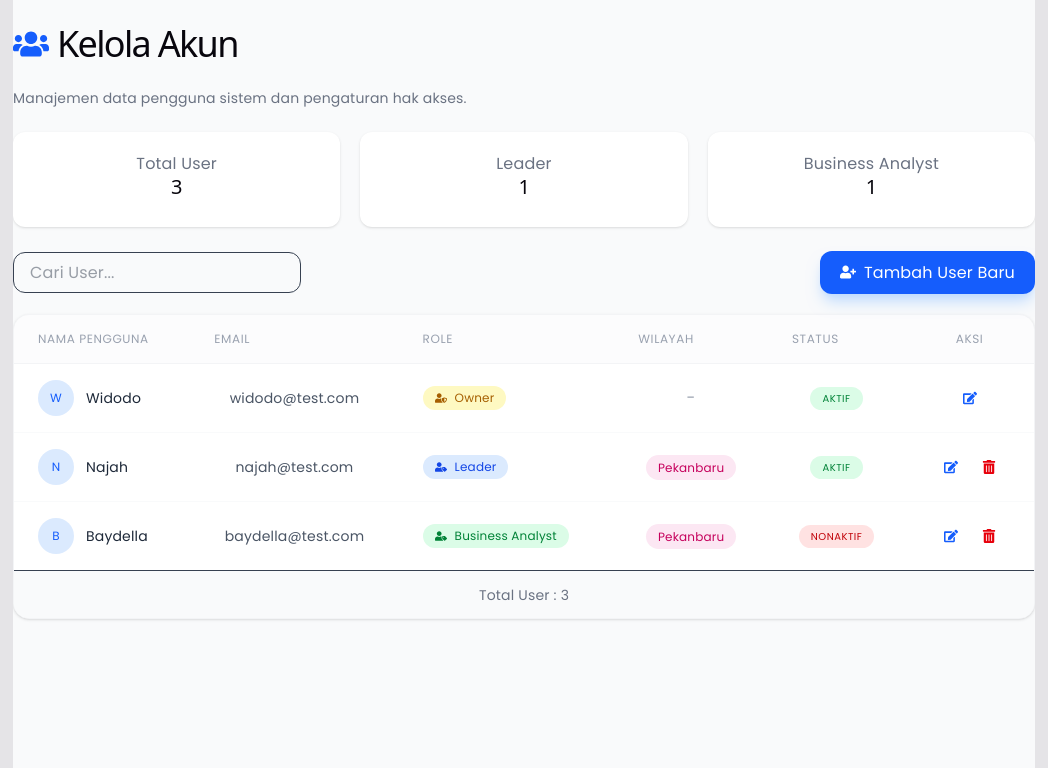
Scenario: White Box Testing - Kelola Akun › WB-KA05 - Memfilter pengguna melalui pencarian
Expected: the text "Najah" is shown, x1=86 y1=457 x2=128 y2=477
Step 1. Type "najah" into the field with placeholder "Cari User..." → (157, 272), box x1=13 y1=252 x2=301 y2=293
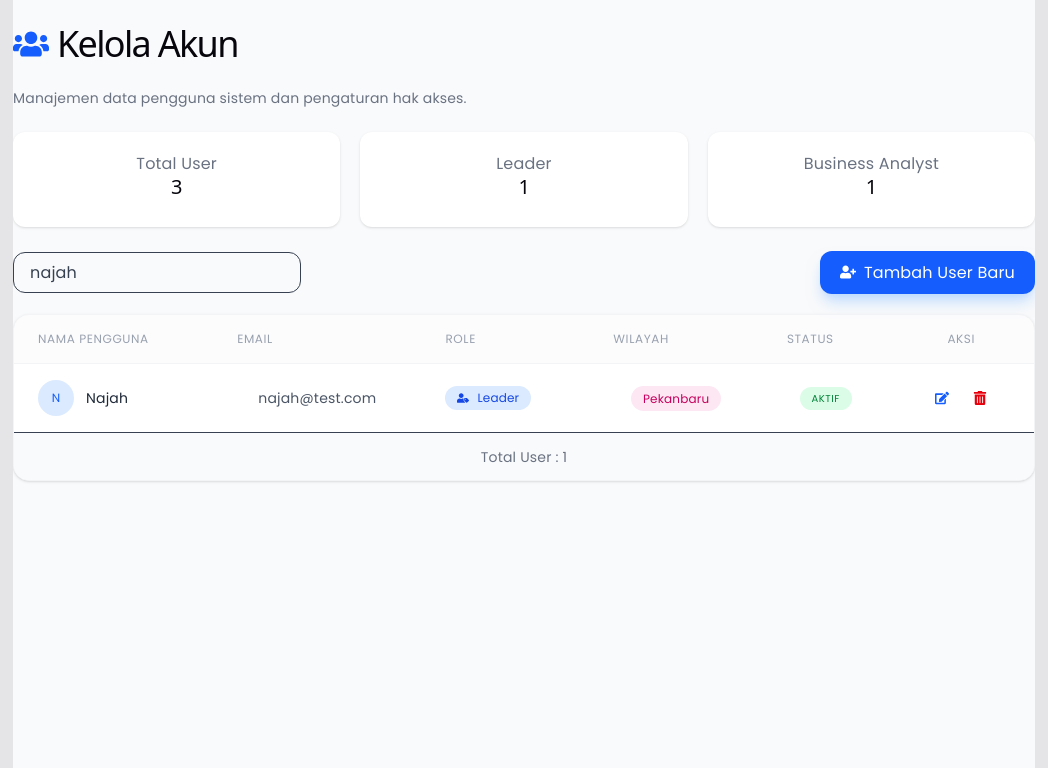
Expected: the text "Najah" is shown, x1=86 y1=388 x2=128 y2=408
Expected: the text "Baydella" is gone
Step 2. Replace the text in the field with placeholder "Cari User..." with "widodo@test.com" → (157, 272), box x1=13 y1=252 x2=301 y2=293
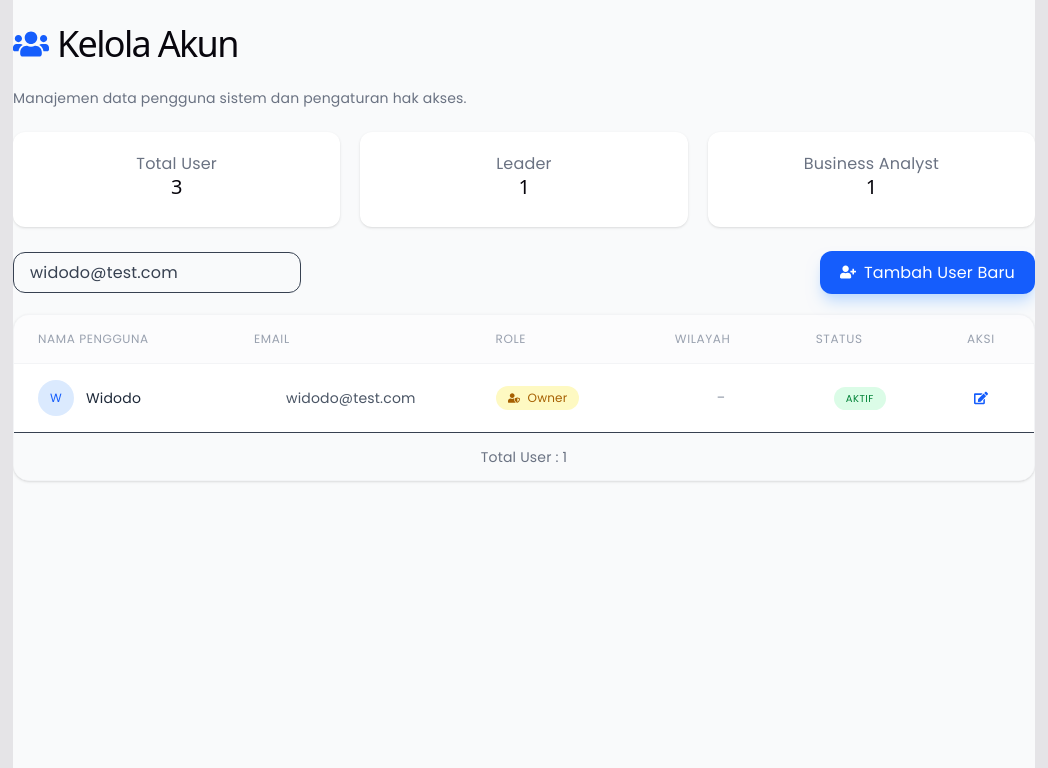
Expected: the text "Widodo" is shown, x1=86 y1=388 x2=141 y2=408
Expected: the text "Najah" is gone
